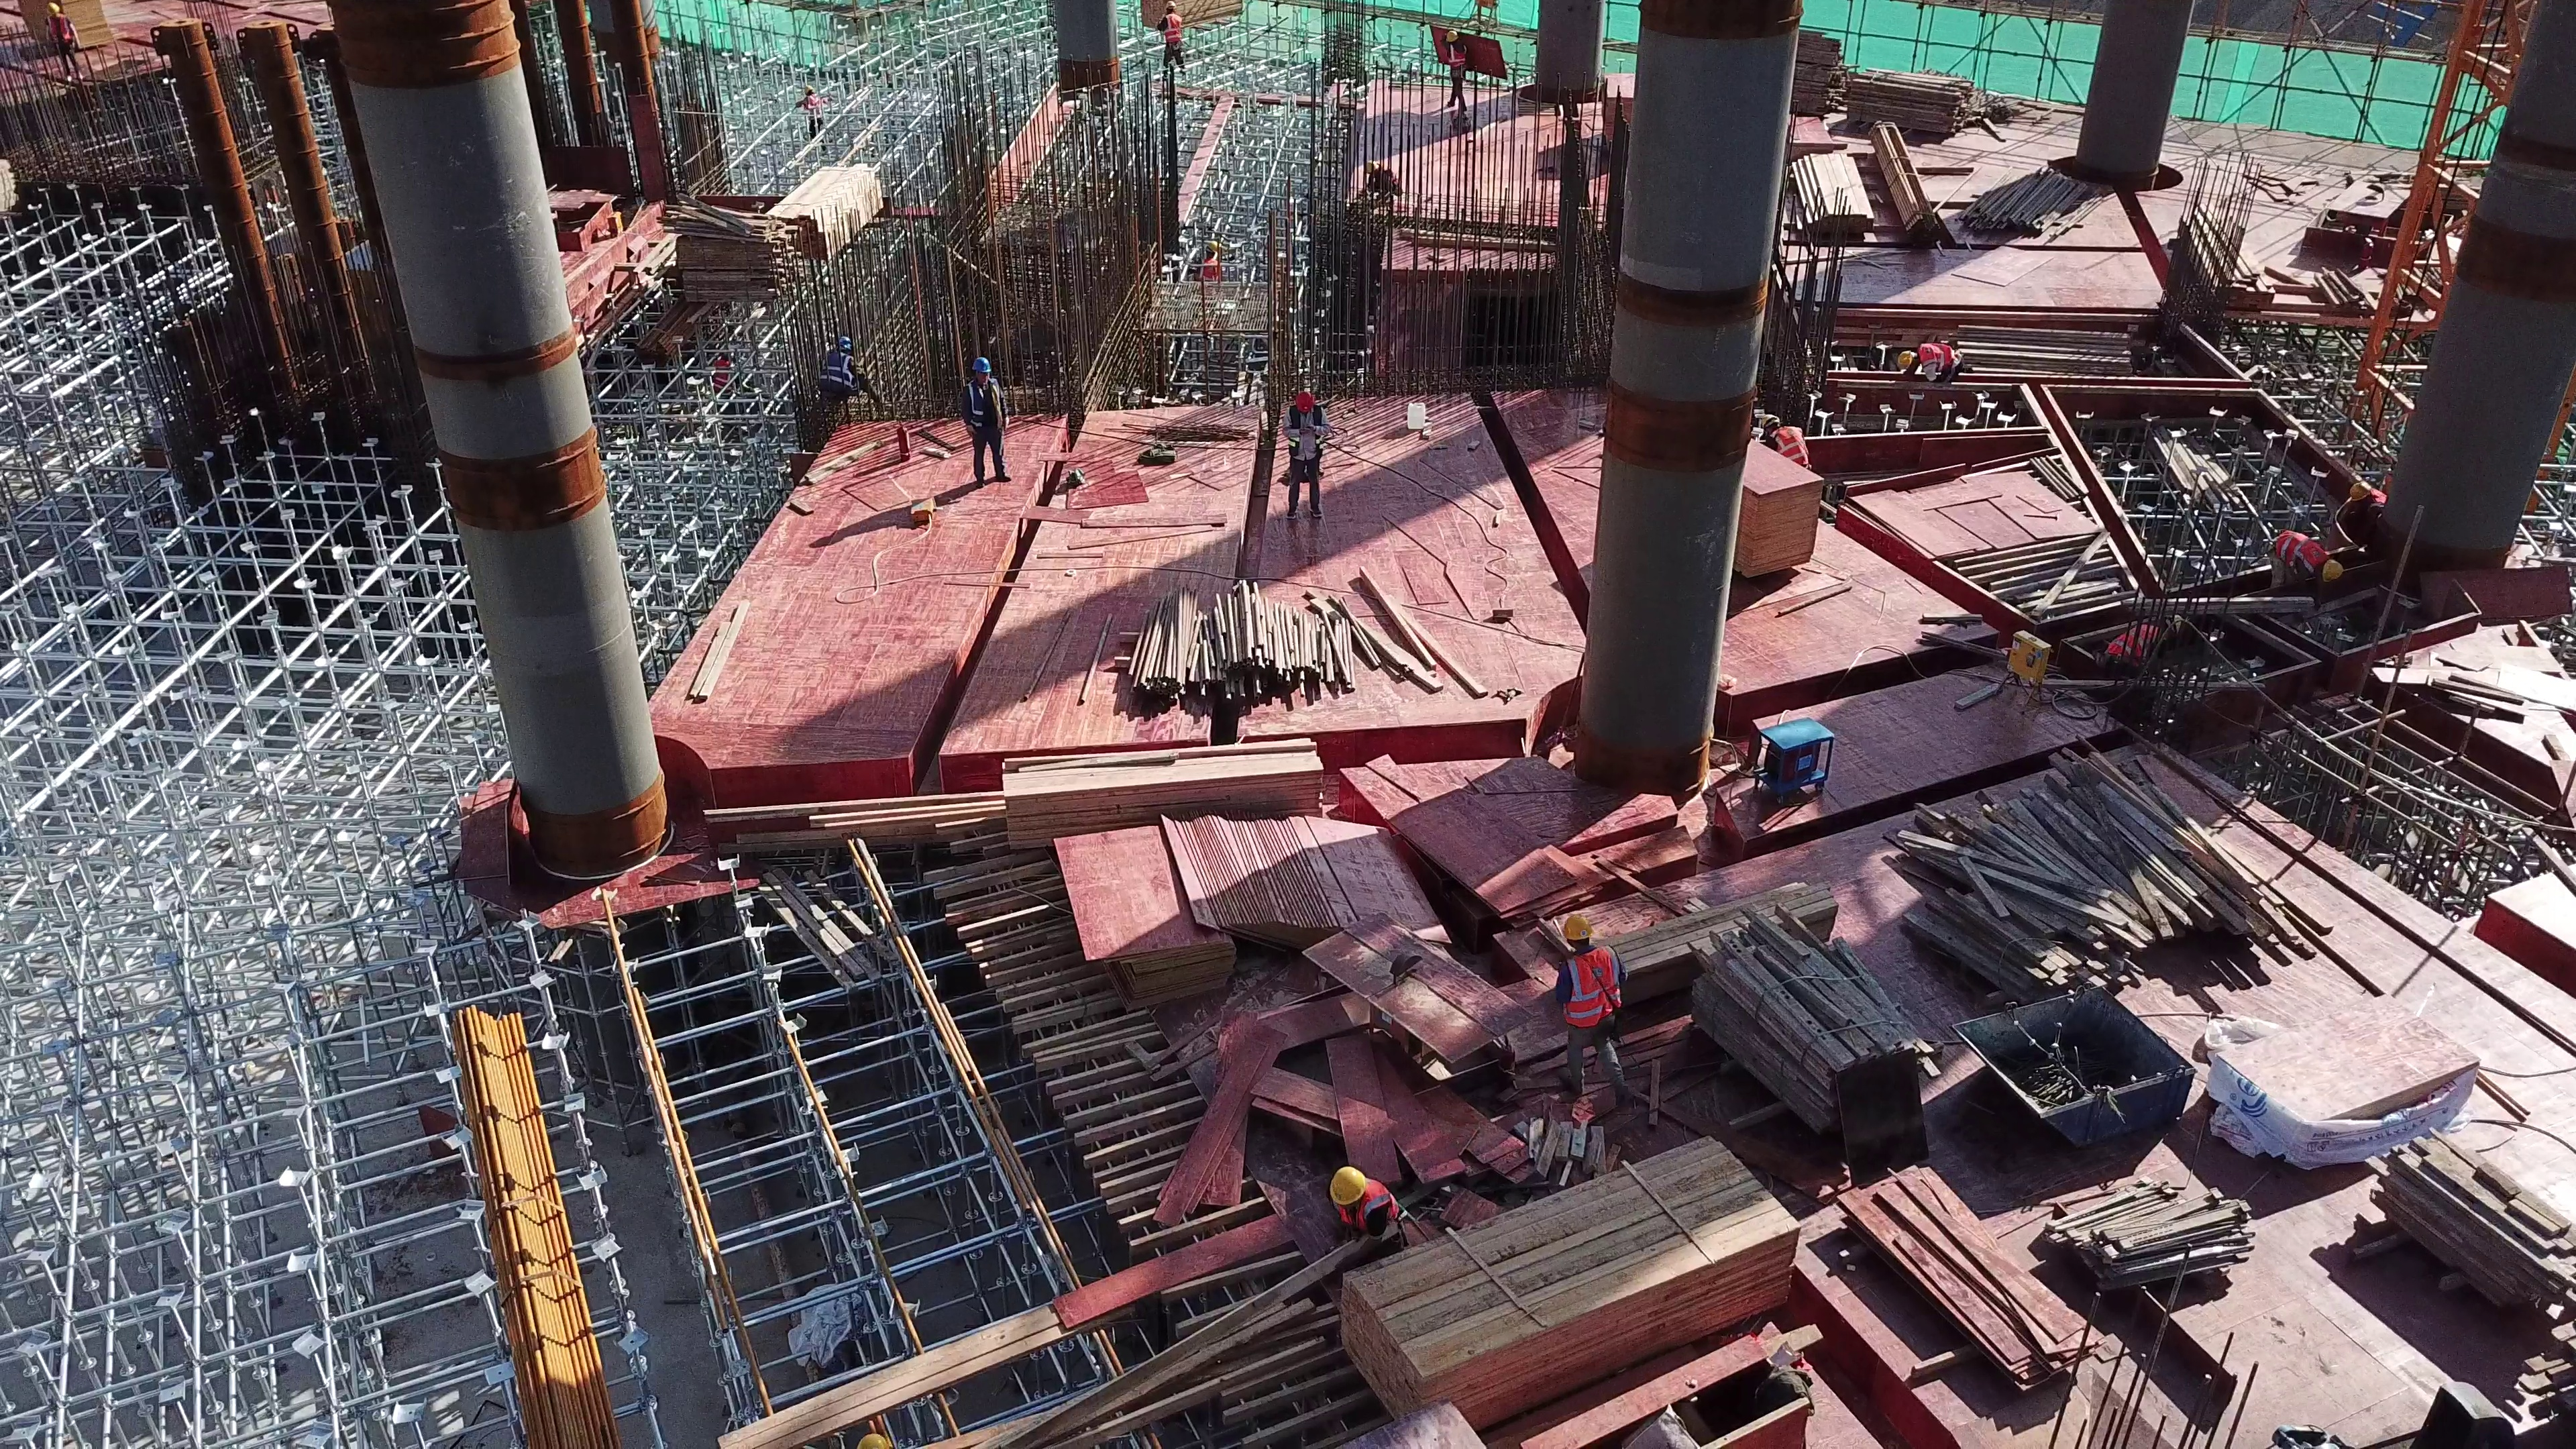board: (1836, 1161, 2100, 1391), (1163, 803, 1442, 949), (1047, 821, 1238, 1004), (1740, 430, 1823, 582)
ebox: (1996, 629, 2053, 704)
helmet: (1329, 1169, 1364, 1208), (1563, 916, 1595, 939), (2320, 559, 2343, 584), (2349, 482, 2372, 502), (1295, 391, 1315, 414), (971, 356, 992, 374), (1758, 415, 1781, 428), (1897, 350, 1912, 368), (1445, 30, 1458, 44)
hopper: (1947, 984, 2199, 1148)
person: (1553, 914, 1631, 1104), (960, 354, 1014, 485), (1329, 1163, 1403, 1254), (1285, 392, 1327, 521), (2271, 530, 2347, 596), (820, 333, 882, 407), (2103, 616, 2191, 663), (1758, 413, 1815, 472), (1894, 343, 1967, 384), (1439, 28, 1469, 112), (2348, 478, 2390, 535), (1158, 1, 1186, 74), (1364, 159, 1403, 200), (1195, 240, 1218, 282)
vest: (1559, 945, 1620, 1029), (1338, 1177, 1399, 1232), (2275, 532, 2327, 574), (966, 378, 1004, 429), (1772, 426, 1811, 469), (820, 349, 857, 393), (1916, 343, 1961, 370)
wood: (1344, 1132, 1802, 1429), (1892, 745, 2292, 1002), (1679, 895, 1939, 1128), (1626, 881, 1835, 1010), (664, 194, 782, 303), (1847, 66, 1976, 134), (1797, 27, 1845, 117)
